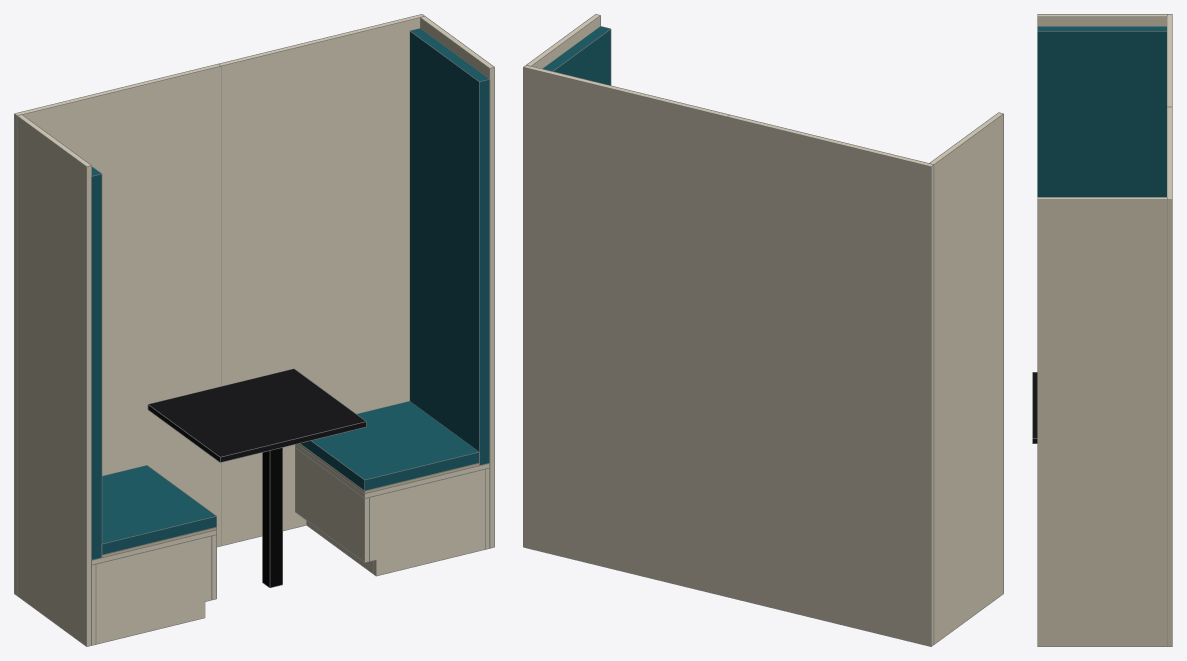
Rendered from modell.glb.
3 views of the same model, side by side, from view 1: azimuth 30°, elevation 25°; view 2: azimuth 150°, elevation 25°; view 3: azimuth 270°, elevation 25° (orthographic). The views are drawn at different scales.
Size of the model in its own units: 1960 by 2204 by 625.
